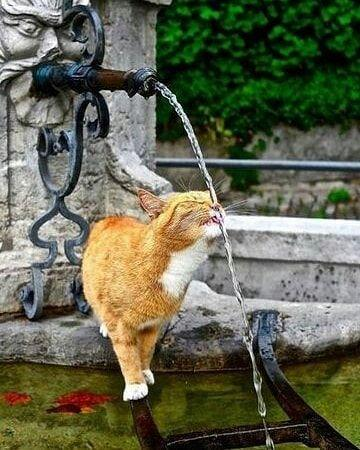kedo: (83, 187, 225, 400)
